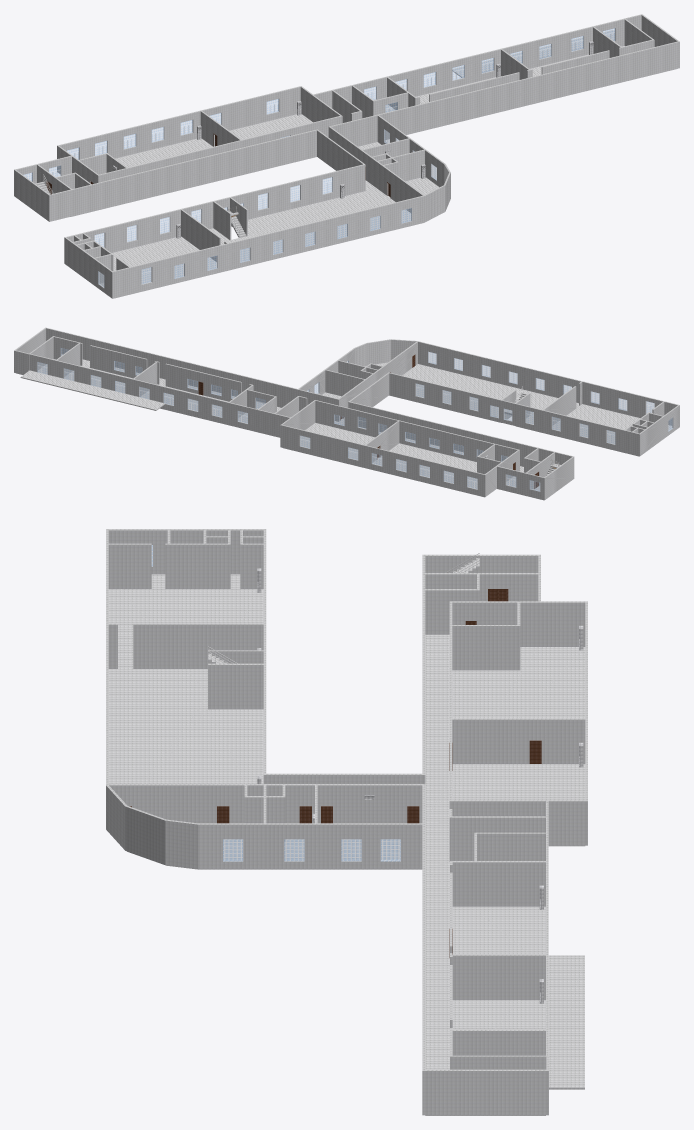
The model's file is hql-f2.glb.
The picture shows the model from 3 angles, top to bottom: view 1: azimuth 30°, elevation 25°; view 2: azimuth 150°, elevation 25°; view 3: azimuth 270°, elevation 25°; orthographic projection. The views are drawn at different scales.
Parts seen in each view (by area): view 1: 2F, 2F_Ceiling, 2F窗; view 2: 2F, 2F_Ceiling, 2F窗; view 3: 2F, 2F_Ceiling, 2F窗, 2F门.
Boxes of the visible parts, x1,y1,x2,y2 form: 2F: (14, 15, 679, 298); 2F_Ceiling: (14, 14, 679, 287); 2F窗: (23, 28, 614, 287); 2F: (14, 328, 679, 500); 2F_Ceiling: (14, 327, 679, 491); 2F窗: (37, 348, 672, 491); 2F: (106, 530, 587, 1115); 2F_Ceiling: (106, 529, 587, 1087); 2F窗: (151, 545, 400, 861); 2F门: (130, 589, 541, 957).
Bounding box in the file's own units: 94.44 × 4.65 × 35.5.
Materials: 6 (6 with a texture image).
